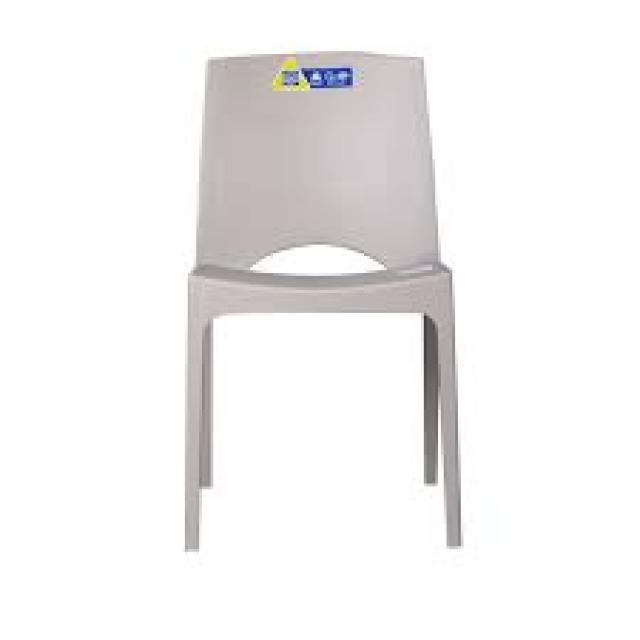chair: (107, 27, 589, 626)
